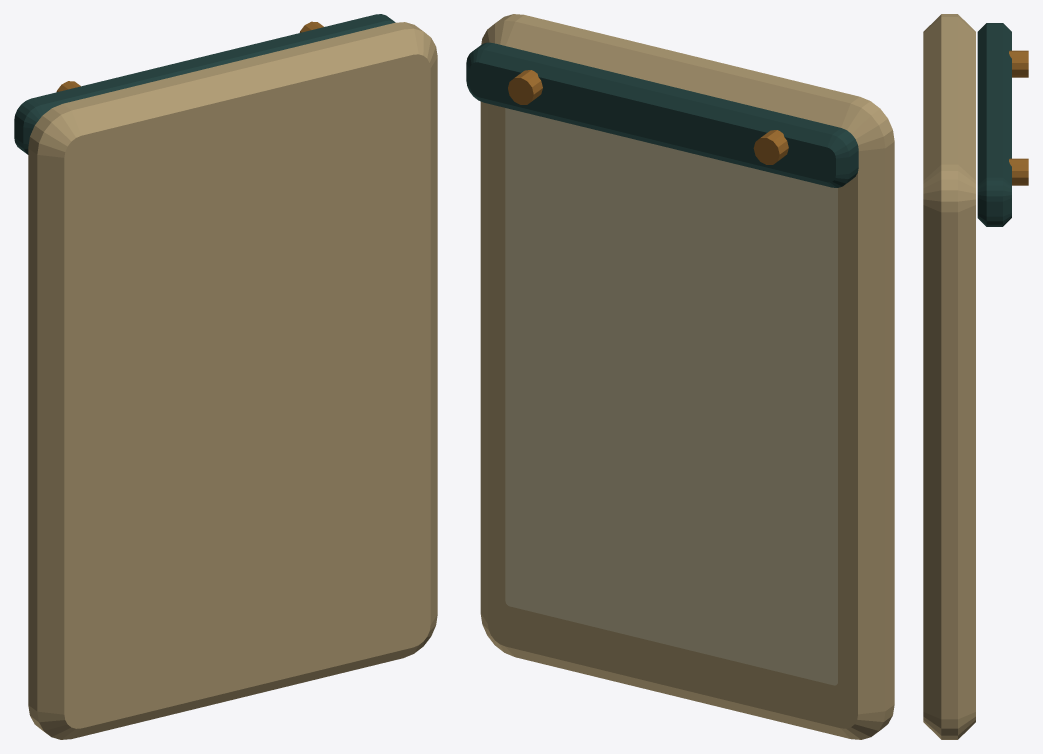
File: calendar.obj
3 renders of one model, left to right at view 1: azimuth 30°, elevation 25°; view 2: azimuth 150°, elevation 25°; view 3: azimuth 270°, elevation 25°, orthographic. The views are drawn at different scales.
Parts seen in each view (by area): view 1: calendar_backing, binding; view 2: runtime_calendar, calendar_backing, binding, calendar_pins; view 3: calendar_backing, binding, calendar_pins.
Boxes of the visible parts, x1,y1,x2,y2 form: calendar_backing: (28,22,437,739); binding: (14,14,395,154); runtime_calendar: (505,108,837,685); calendar_backing: (480,14,894,739); binding: (466,42,858,187); calendar_pins: (508,70,788,164); calendar_backing: (923,14,975,739); binding: (977,23,1011,226); calendar_pins: (1009,50,1028,185).
Bounding box in the file's own units: 0.28 × 0.42 × 0.07.
